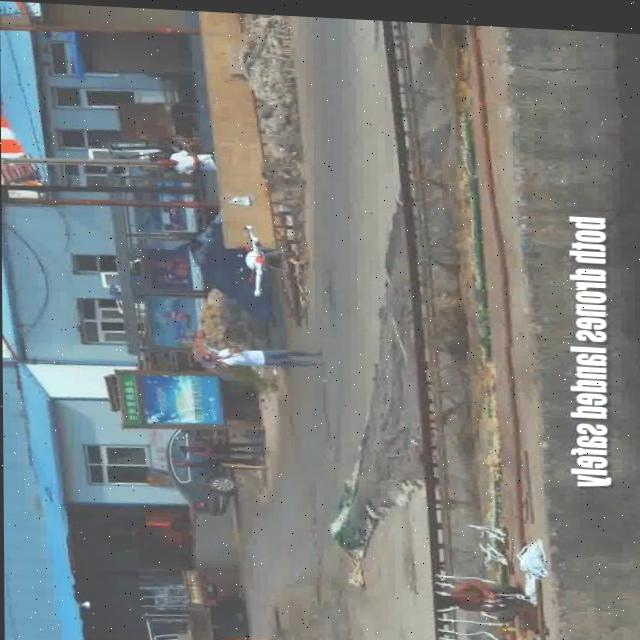drone: (230, 217, 281, 295)
